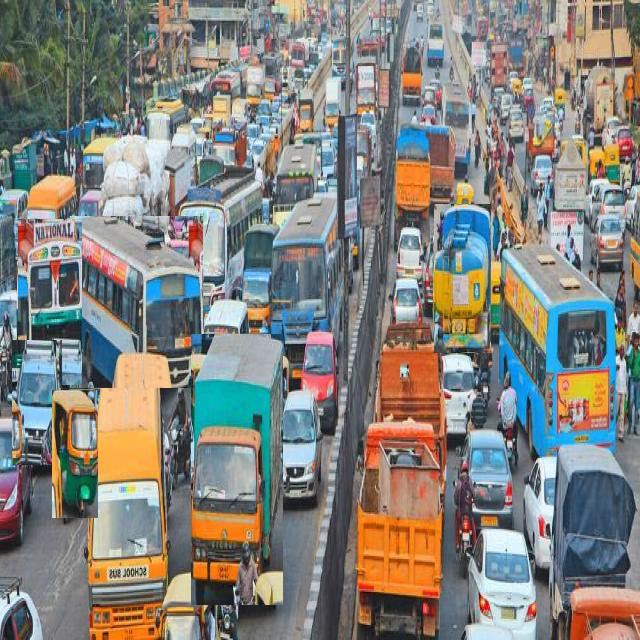autorickshaw: (52, 390, 98, 518)
bus: (499, 244, 616, 456), (85, 355, 169, 640), (70, 217, 202, 388), (271, 194, 342, 383), (180, 167, 262, 311)
car: (468, 528, 536, 640), (12, 341, 61, 465), (465, 431, 514, 528), (280, 390, 322, 503), (0, 417, 32, 541), (301, 332, 338, 431), (442, 352, 475, 433)
truck: (191, 334, 282, 605), (18, 220, 82, 385), (434, 205, 491, 353)
